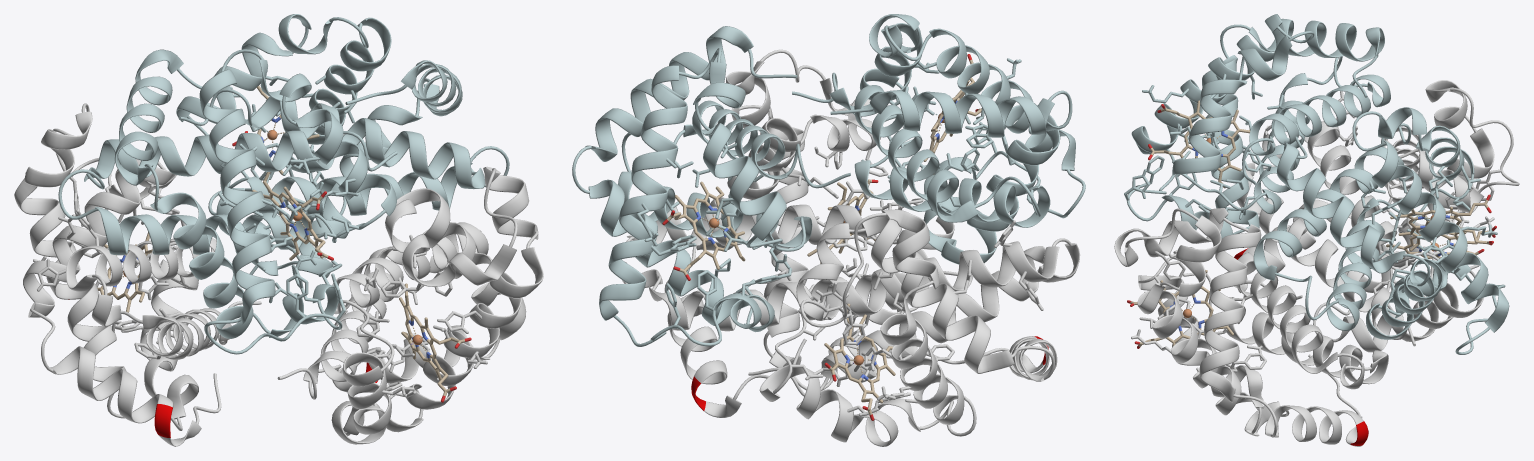
Rendered from hemoglobin.glb.
3 views of the same model, side by side, from view 1: azimuth 30°, elevation 25°; view 2: azimuth 150°, elevation 25°; view 3: azimuth 270°, elevation 25° (orthographic). The views are drawn at different scales.
Parts seen in each view (by area): view 1: ribbons, bonds, atoms; view 2: ribbons, bonds, atoms; view 3: ribbons, bonds, atoms.
Boxes of the visible parts, left/top/right/bottom form: ribbons: left=14, top=14, right=543, bottom=446; bonds: left=34, top=75, right=485, bottom=406; atoms: left=33, top=77, right=487, bottom=402; ribbons: left=572, top=14, right=1085, bottom=446; bonds: left=637, top=55, right=1043, bottom=419; atoms: left=636, top=54, right=1043, bottom=420; ribbons: left=1114, top=14, right=1519, bottom=446; bonds: left=1124, top=73, right=1501, bottom=372; atoms: left=1124, top=85, right=1497, bottom=371.
Size of the model in its own units: 62.56 by 53.02 by 55.05.
